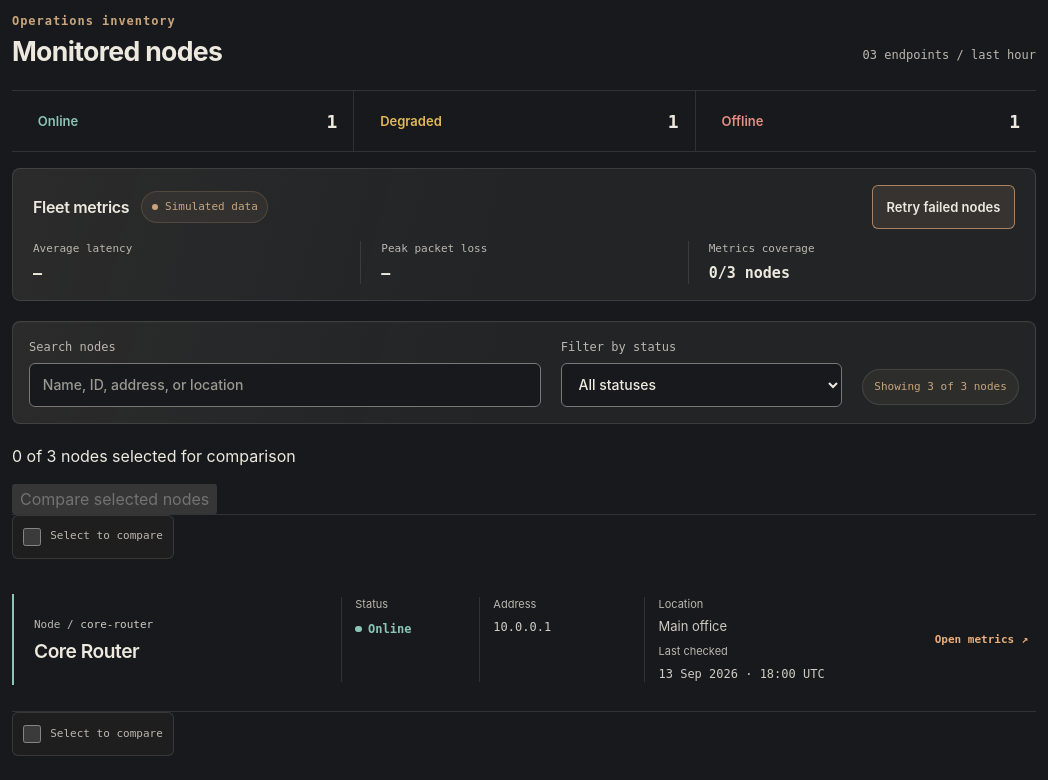
NetworkNodesPanel › resets the pressed fleet count when All statuses is selected
Step 1. Click the button with aria-label "Online, 1" → (58, 122), box [28,100,88,144]
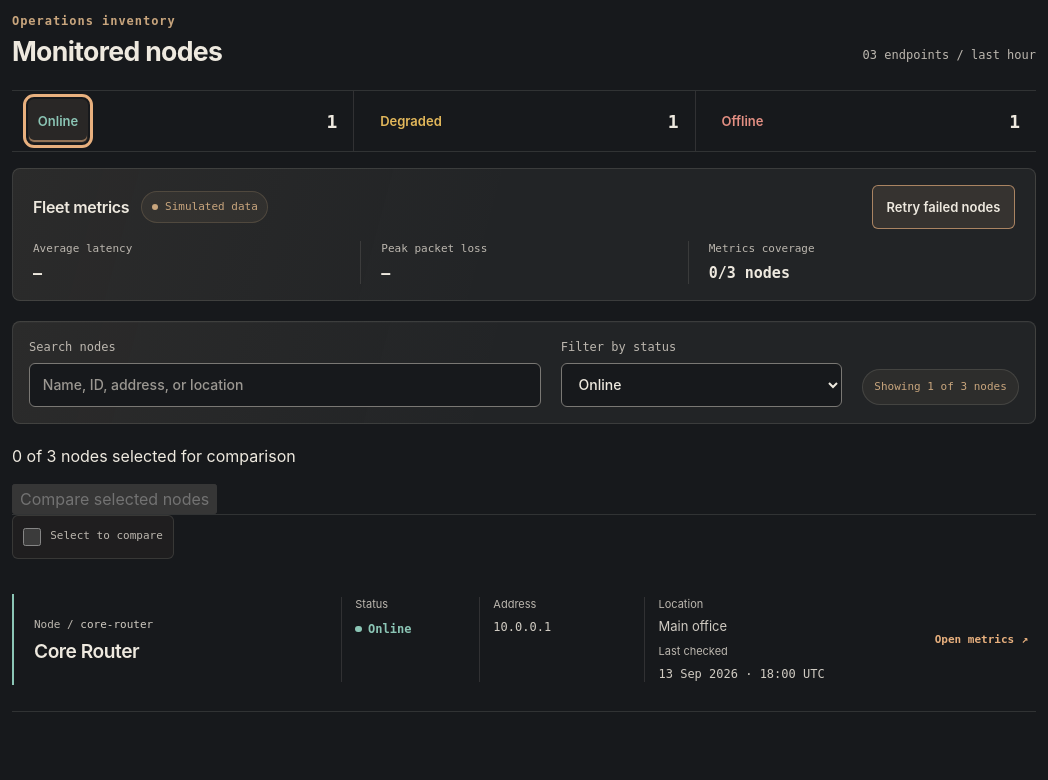
Now the dropdown labelled "Filter by status" shows "Online"
Step 2. Select "All statuses" in the dropdown labelled "Filter by status" → (701, 384), box [561,362,842,406]
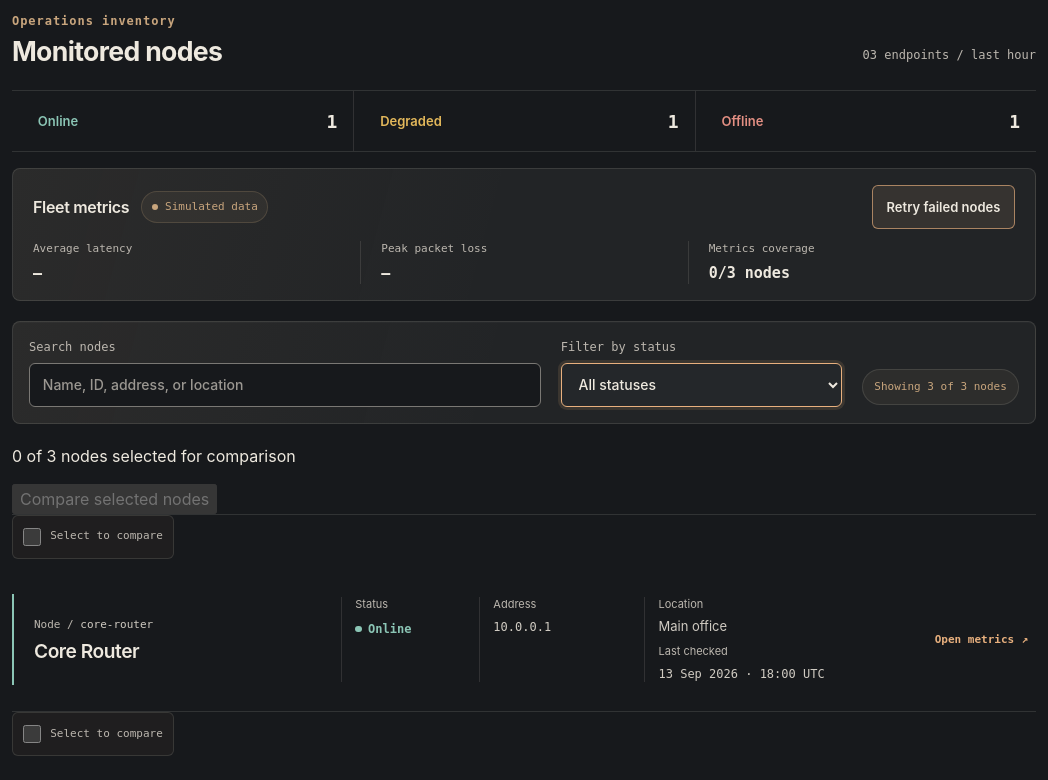
Now the number of links named "View metrics for" is 3
